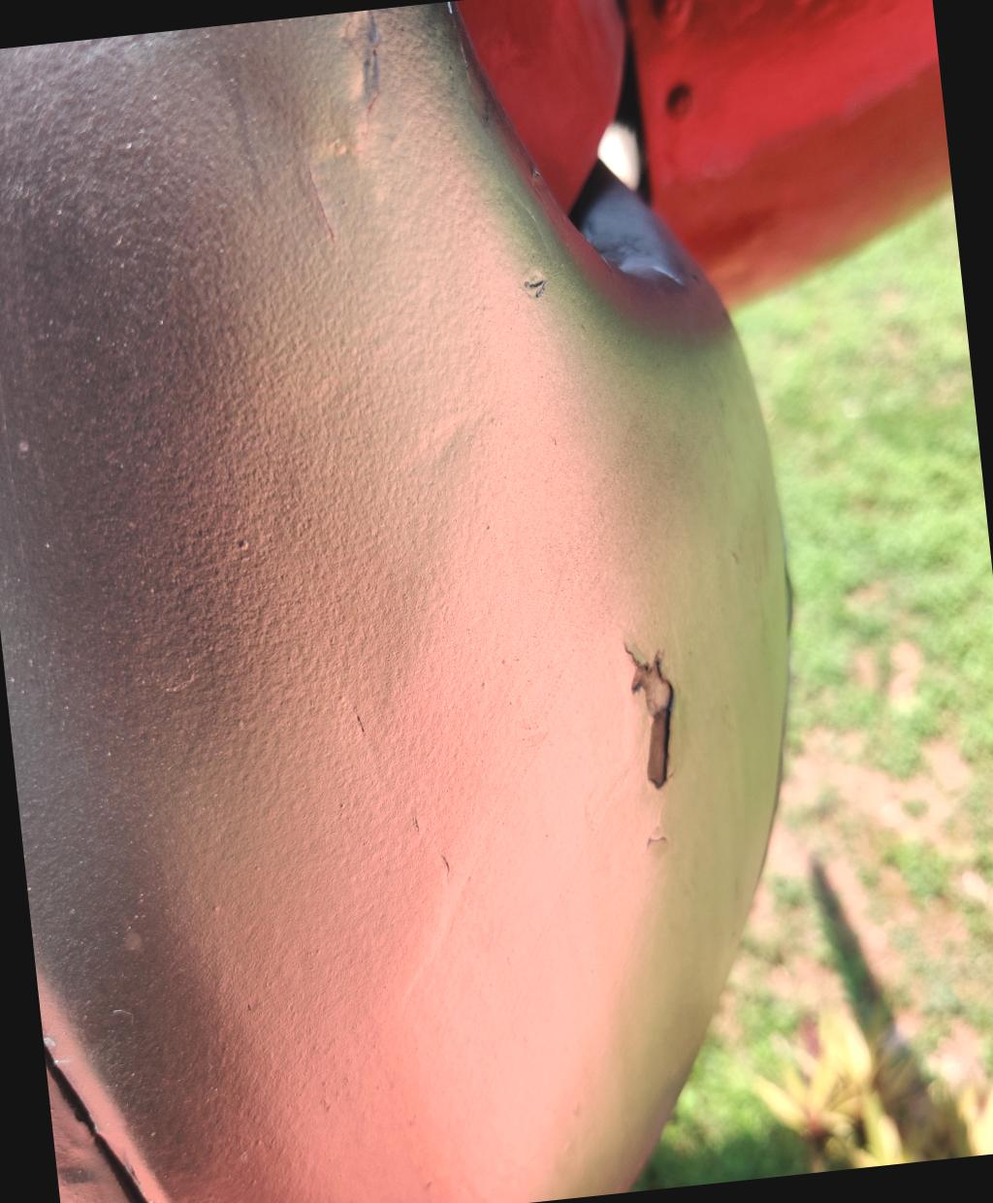corrosion: (632, 642, 685, 794)
